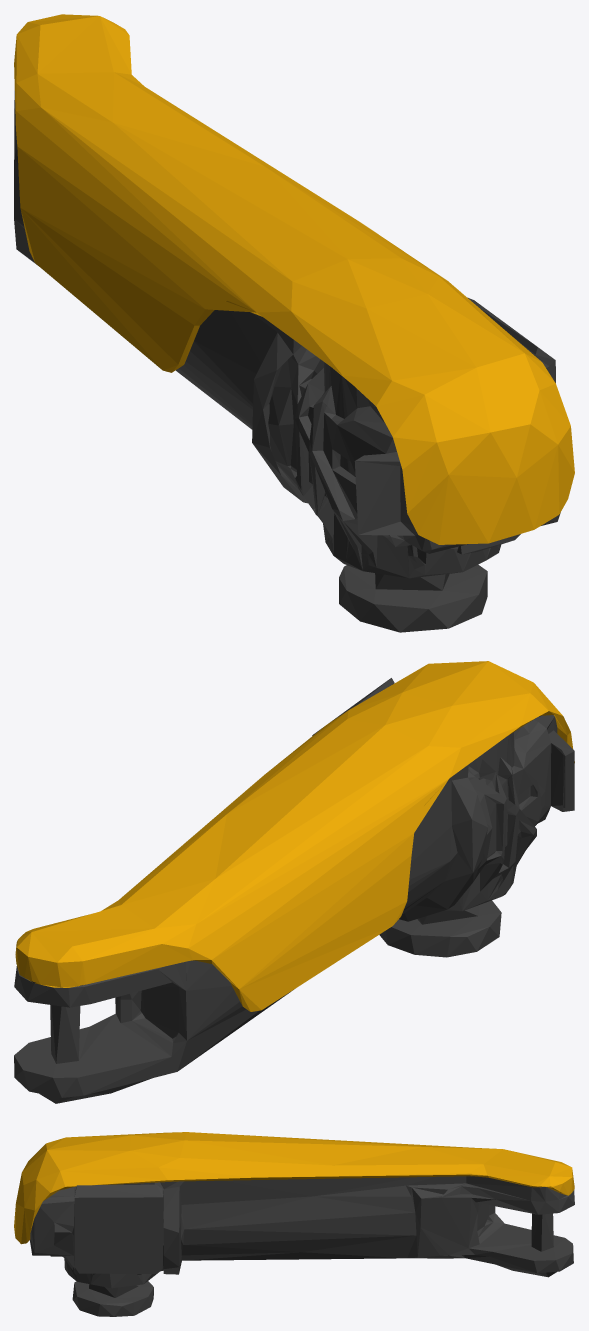
Rendered from rear_left_upper_leg_compressed.dae.
3 views of the same model, one above another, from view 1: azimuth 30°, elevation 25°; view 2: azimuth 150°, elevation 25°; view 3: azimuth 270°, elevation 25° (orthographic). The views are drawn at different scales.
Parts seen in each view (by area): view 1: node; view 2: node; view 3: node.
Boxes of the visible parts, x1=… form: node: x1=14, y1=14, x2=574, y2=632; node: x1=14, y1=661, x2=574, y2=1103; node: x1=14, y1=1132, x2=574, y2=1316.
Size of the model in its own units: 0.102 by 0.1322 by 0.4184.
Materials: 1 (1 with a texture image).
